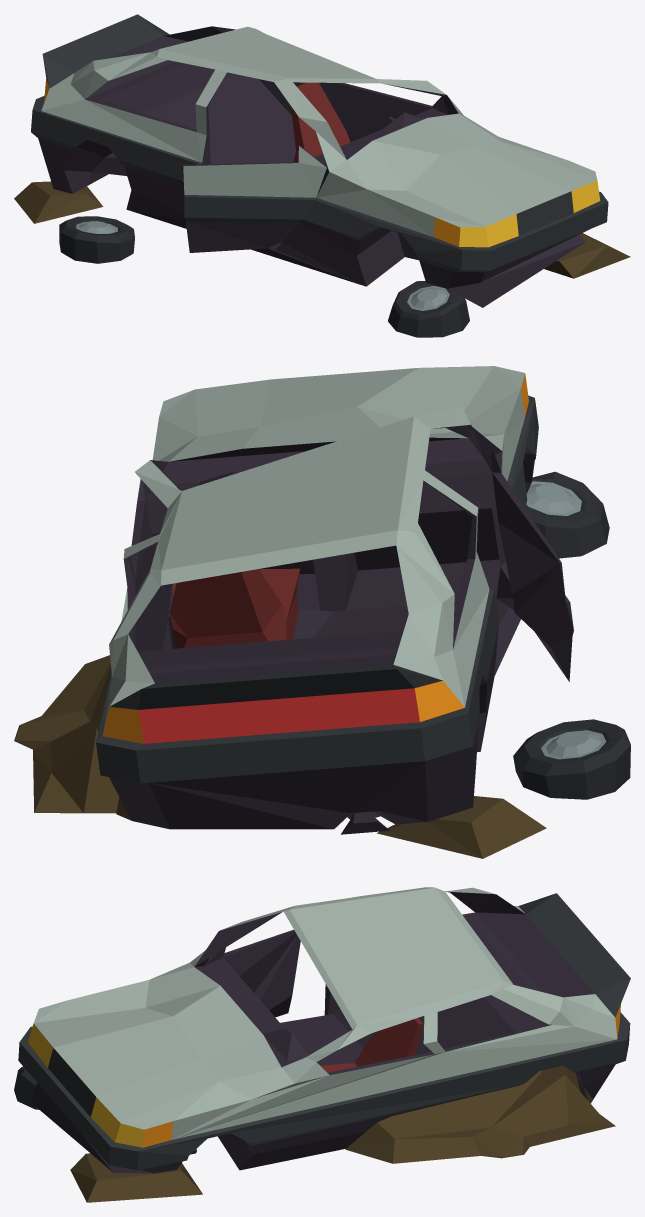
File: autos_destruidos3.fbx
3 renders of one model, top to bottom at view 1: azimuth 30°, elevation 25°; view 2: azimuth 150°, elevation 25°; view 3: azimuth 270°, elevation 25°, orthographic. The views are drawn at different scales.
Parts seen in each view (by area): view 1: car 2./2; view 2: car 2./2; view 3: car 2./2.
Part boxes in pixels (x1,y1,x2,y2): car 2./2: [14, 14, 630, 337]; car 2./2: [14, 366, 630, 858]; car 2./2: [14, 887, 630, 1202].
Bounding box in the file's own units: 6039 × 2270 × 7394.
1 material, 1 textured.
